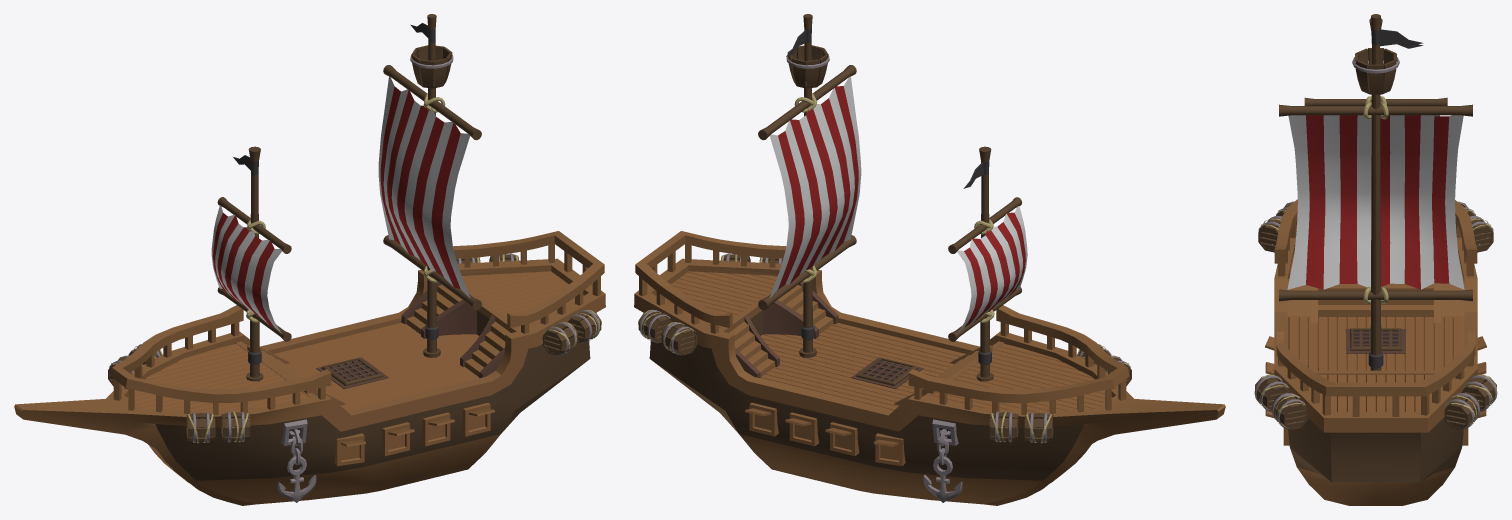
File: Ship_Brig_playable.gltf
3 views of the same model, side by side, from view 1: azimuth 30°, elevation 25°; view 2: azimuth 150°, elevation 25°; view 3: azimuth 270°, elevation 25° (orthographic). The views are drawn at different scales.
Visible parts, largest first — view 1: Ship_Large_Static, Ship_Large_MainSail, Ship_Large_ForeSail; view 2: Ship_Large_Static, Ship_Large_MainSail, Ship_Large_ForeSail; view 3: Ship_Large_Static, Ship_Large_MainSail.
Part boxes in pixels (x1,y1,x2,y2): Ship_Large_Static: [14, 14, 605, 505]; Ship_Large_MainSail: [378, 76, 470, 298]; Ship_Large_ForeSail: [211, 205, 281, 333]; Ship_Large_Static: [634, 14, 1225, 505]; Ship_Large_MainSail: [769, 76, 861, 298]; Ship_Large_ForeSail: [957, 206, 1027, 334]; Ship_Large_Static: [1254, 14, 1497, 505]; Ship_Large_MainSail: [1287, 115, 1464, 289].
Size of the model in its own units: 15.43 by 11.48 by 5.3.
1 material, 1 textured.
